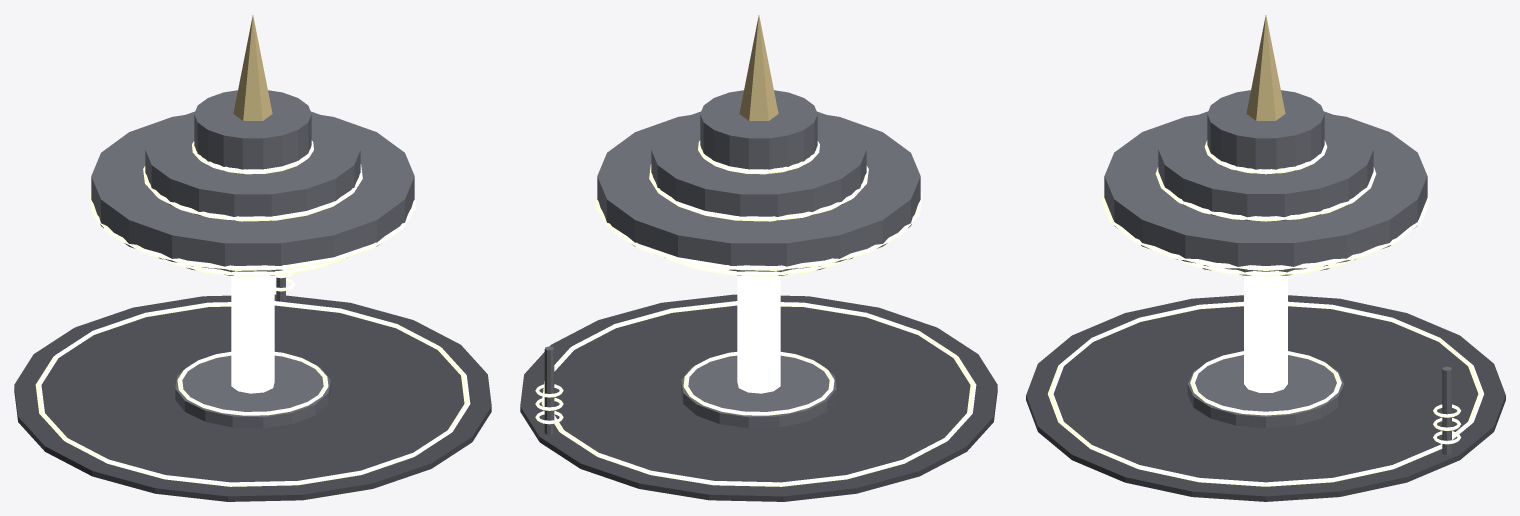
The model's file is zone_low_5_t3.glb.
The picture shows the model from 3 angles, left to right: view 1: azimuth 30°, elevation 25°; view 2: azimuth 150°, elevation 25°; view 3: azimuth 270°, elevation 25°; orthographic projection.
Visible parts, largest first — view 1: zone_low_5_t3, detail; view 2: zone_low_5_t3, detail; view 3: zone_low_5_t3, detail.
Boxes of the visible parts, bbox=[...] form: zone_low_5_t3: bbox=[14, 15, 491, 501]; detail: bbox=[35, 273, 470, 486]; zone_low_5_t3: bbox=[520, 15, 997, 501]; detail: bbox=[535, 301, 976, 486]; zone_low_5_t3: bbox=[1026, 15, 1505, 501]; detail: bbox=[1048, 301, 1483, 486].
Size of the model in its own units: 19.6 by 17.43 by 19.6.
